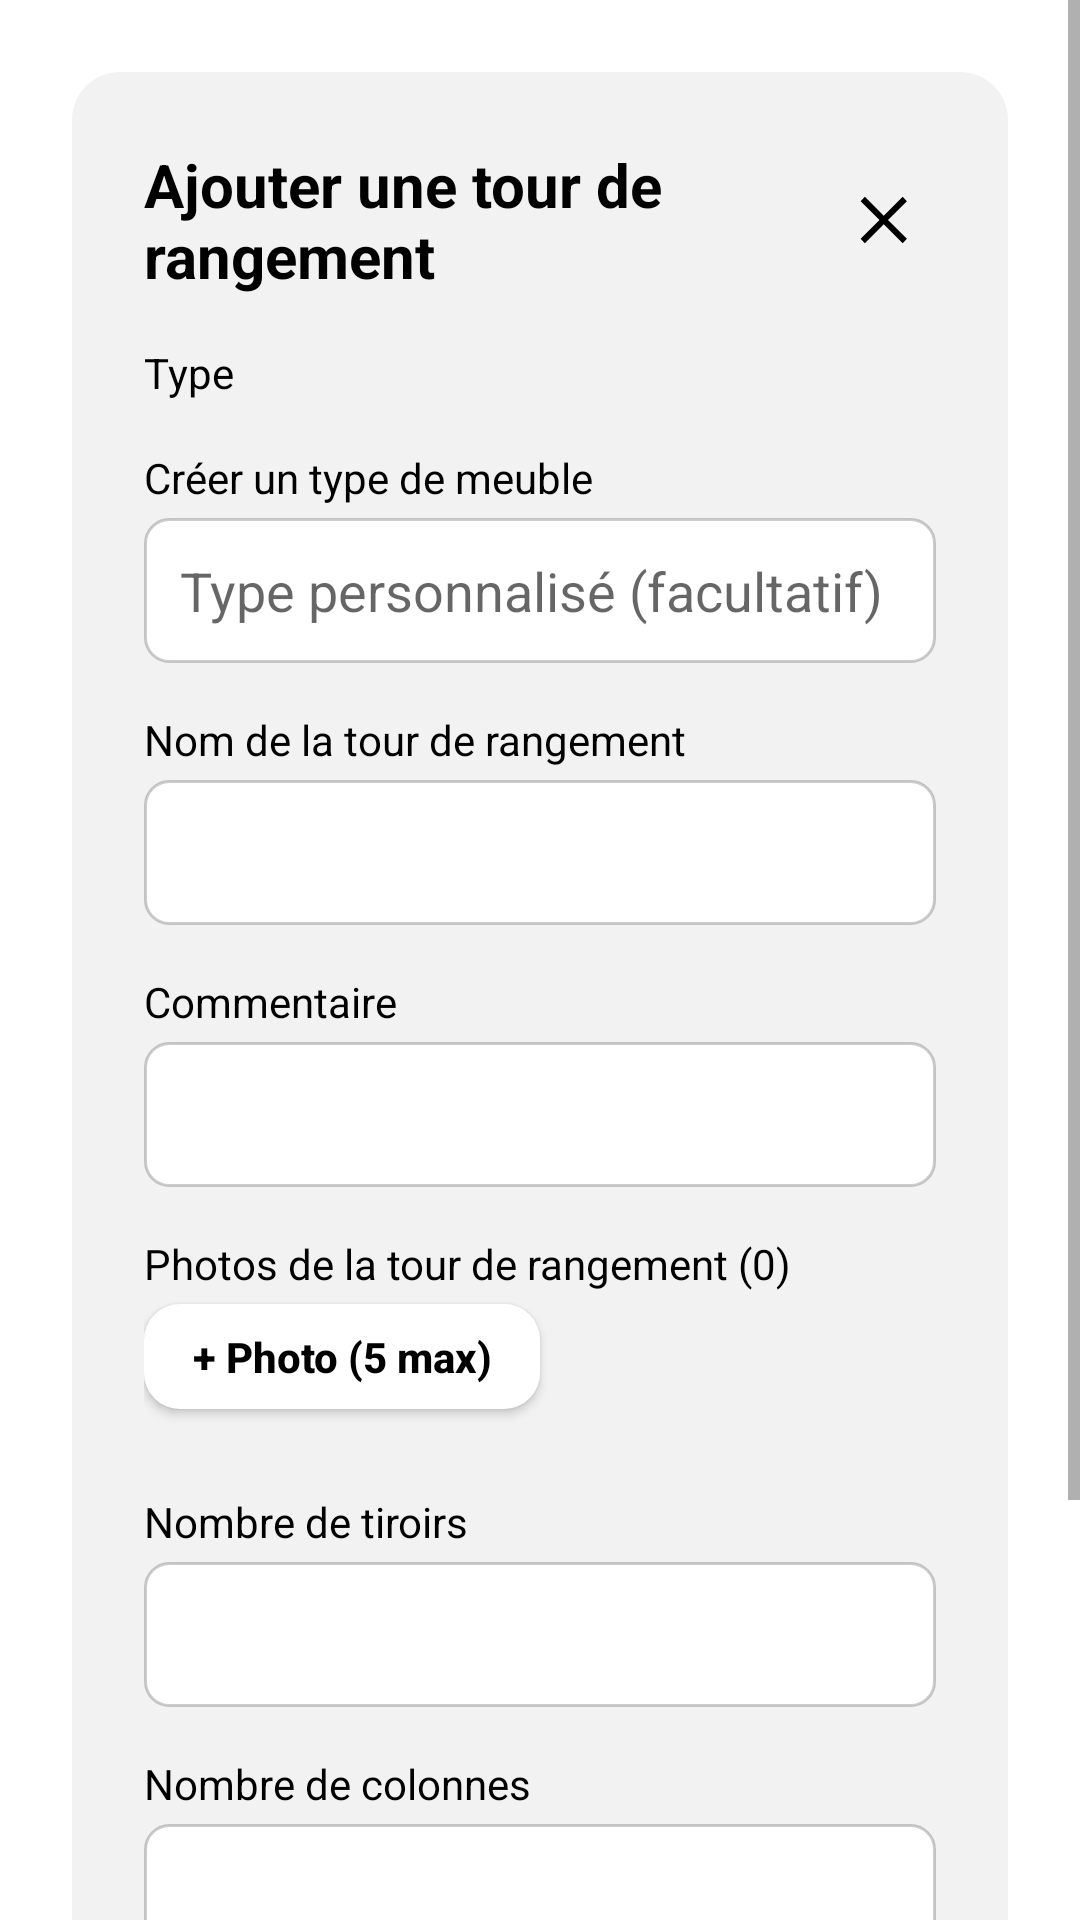

Point at icon controls on the screen. Image size 1080*1920, points as (x=x, y=y).
Fermer la fenêtre modale: (x=883, y=220)
